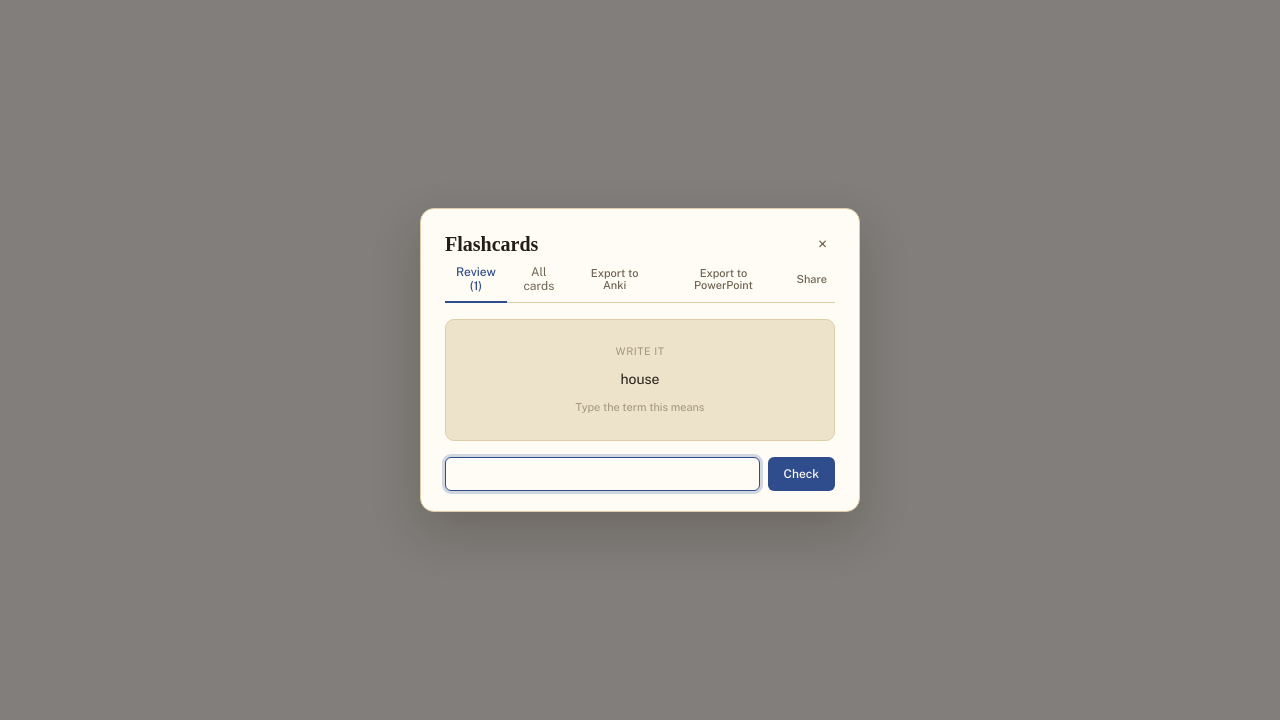
Test: FlashcardsPanel › production-direction review › reports a failed check instead of silently eating the review
Expected: the text "house" is shown, [620,368,660,391]
Type "la casa" into the field named "your answer" at (602, 474), box [445,457,760,491]
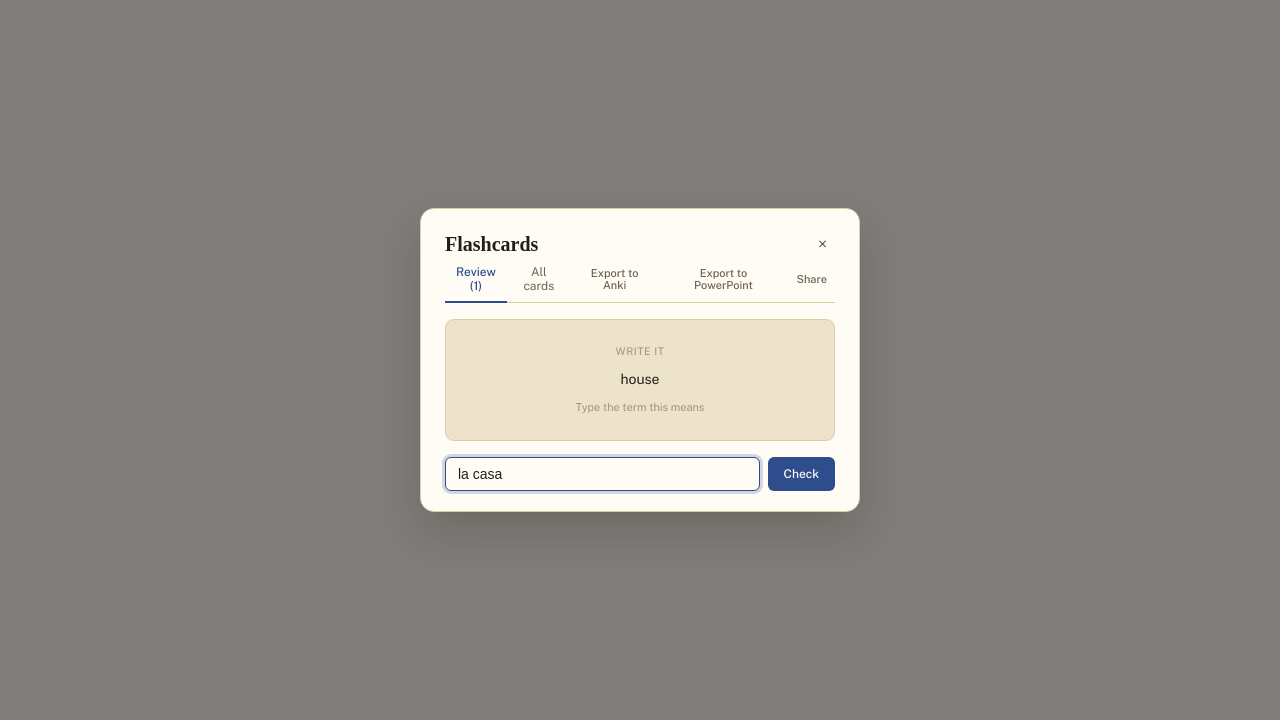
Click the button "Check" at (801, 474), box [768,457,835,491]
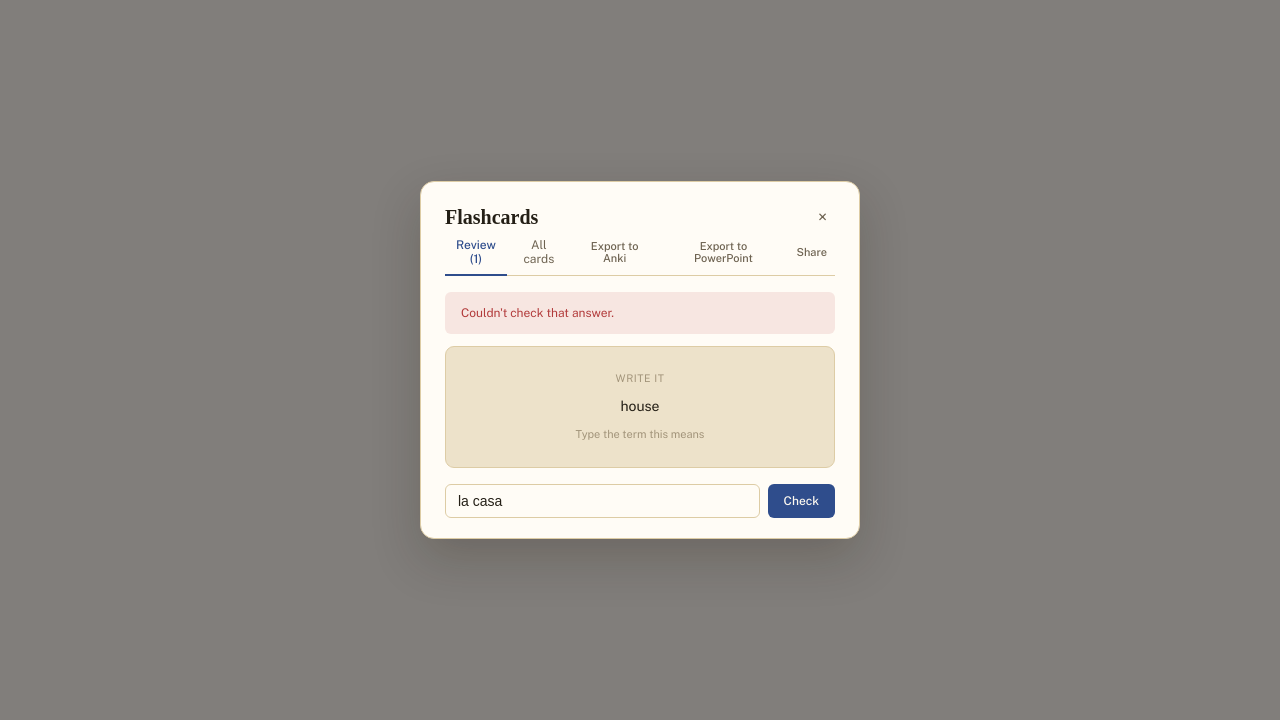
Expected: the button "Check" is shown, [768,484,835,518]
Expected: the text "Couldn't check that answer." is shown, [445,292,835,334]
